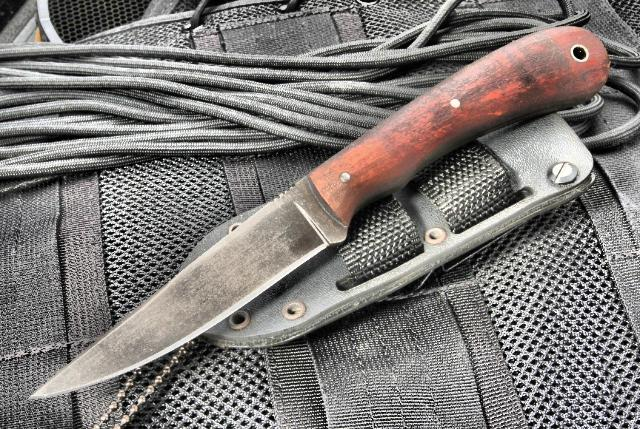knife: (20, 170, 352, 408)
